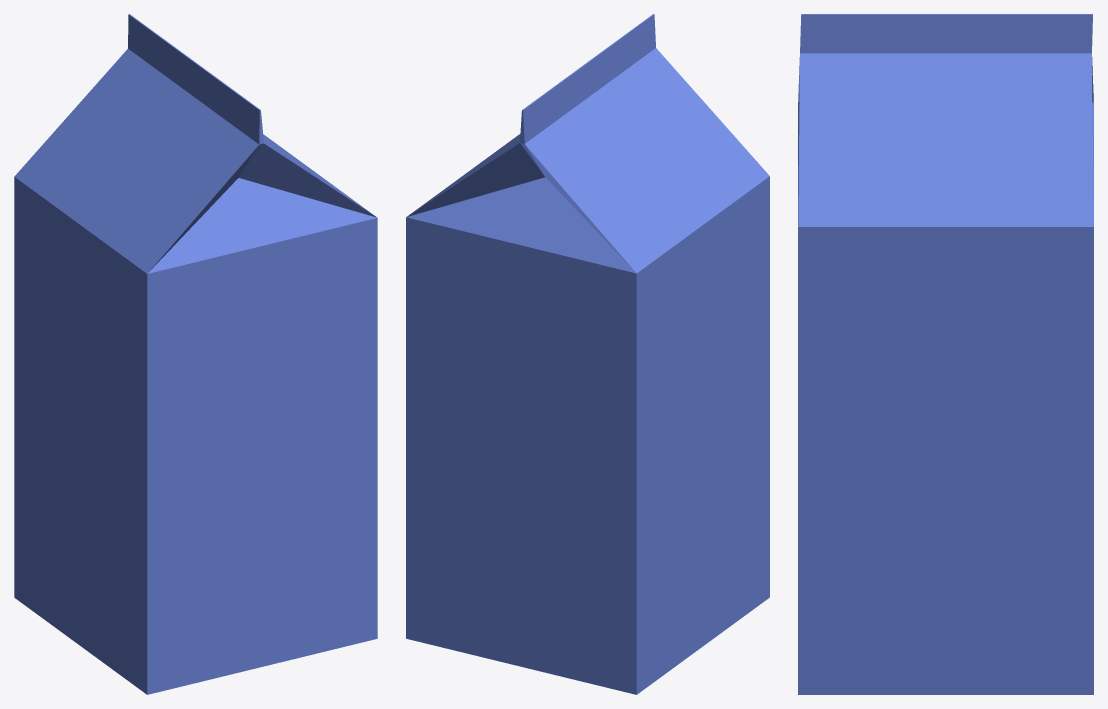
Rendered from milkBox.fbx.
3 renders of one model, left to right at view 1: azimuth 30°, elevation 25°; view 2: azimuth 150°, elevation 25°; view 3: azimuth 270°, elevation 25°, orthographic. The views are drawn at different scales.
Visible parts, largest first — view 1: Cube; view 2: Cube; view 3: Cube.
Part boxes in pixels (x1,y1,x2,y2): Cube: (14,14,377,694); Cube: (406,14,769,694); Cube: (798,14,1093,694).
Bounding box in the file's own units: 309 × 713 × 309.
